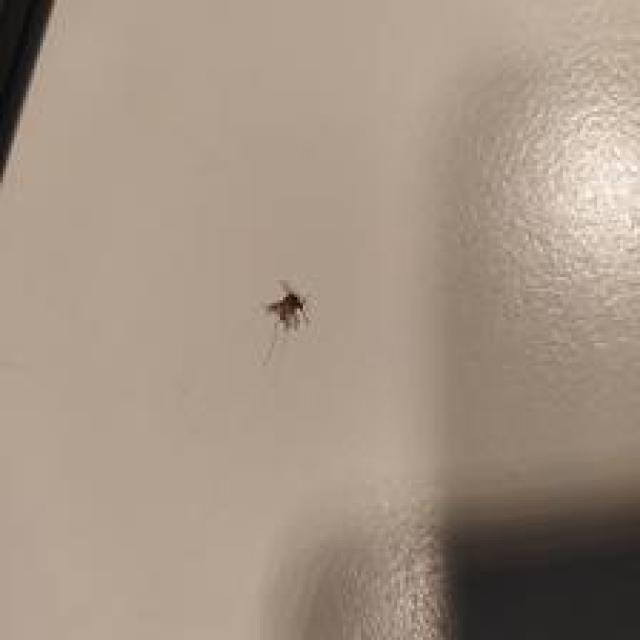Culex: (260, 279, 311, 364)
